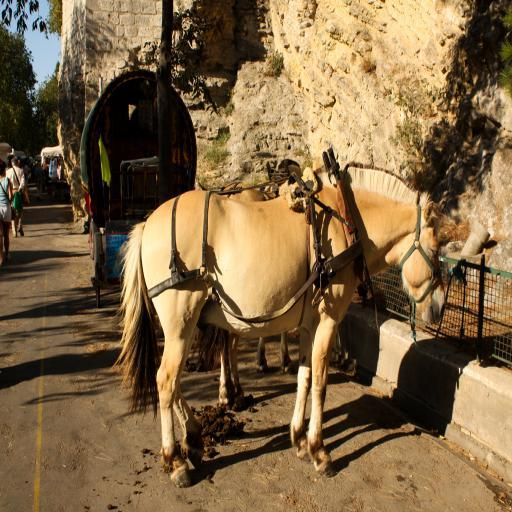Horse: (112, 160, 451, 488)
